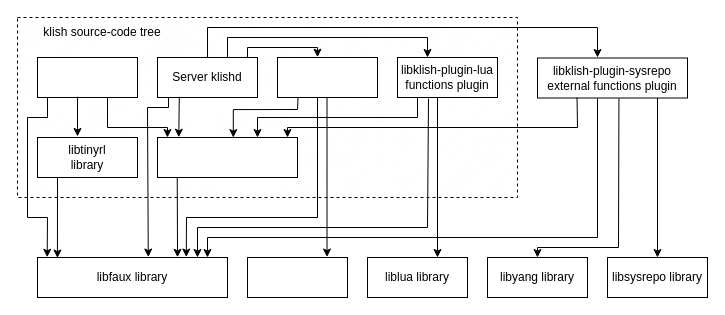
The diagram is 725 pixels wide and 315 high, and some of its shapes have lost their labels. The centre of each missing label's shape, as x and y in pixels:
Client klish: point (87, 77)
libklish library: point (227, 157)
libklish-db-libxml2 database plugin: point (327, 77)
libxml2 library: point (297, 277)
